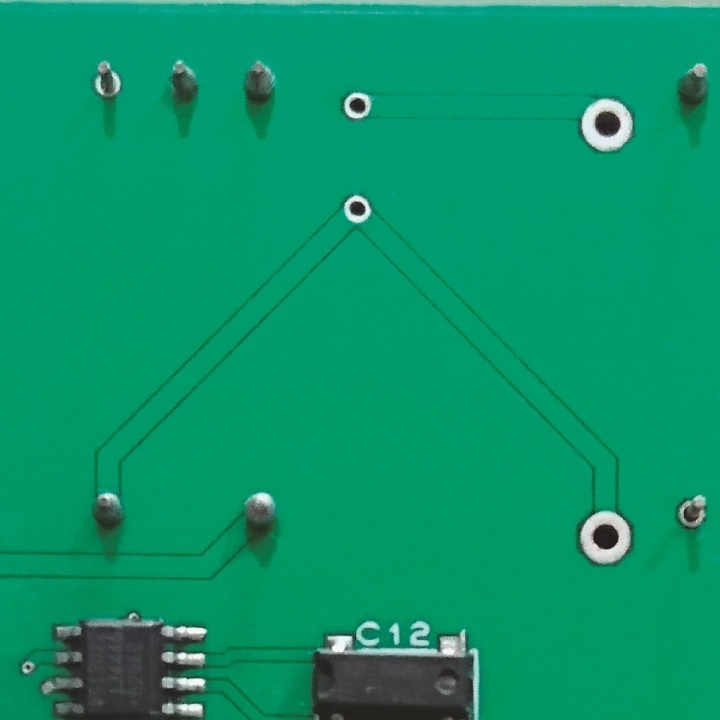F: (575, 92, 639, 160), (578, 508, 636, 570), (676, 488, 711, 538), (91, 60, 124, 109), (341, 190, 376, 230), (338, 89, 376, 122)
